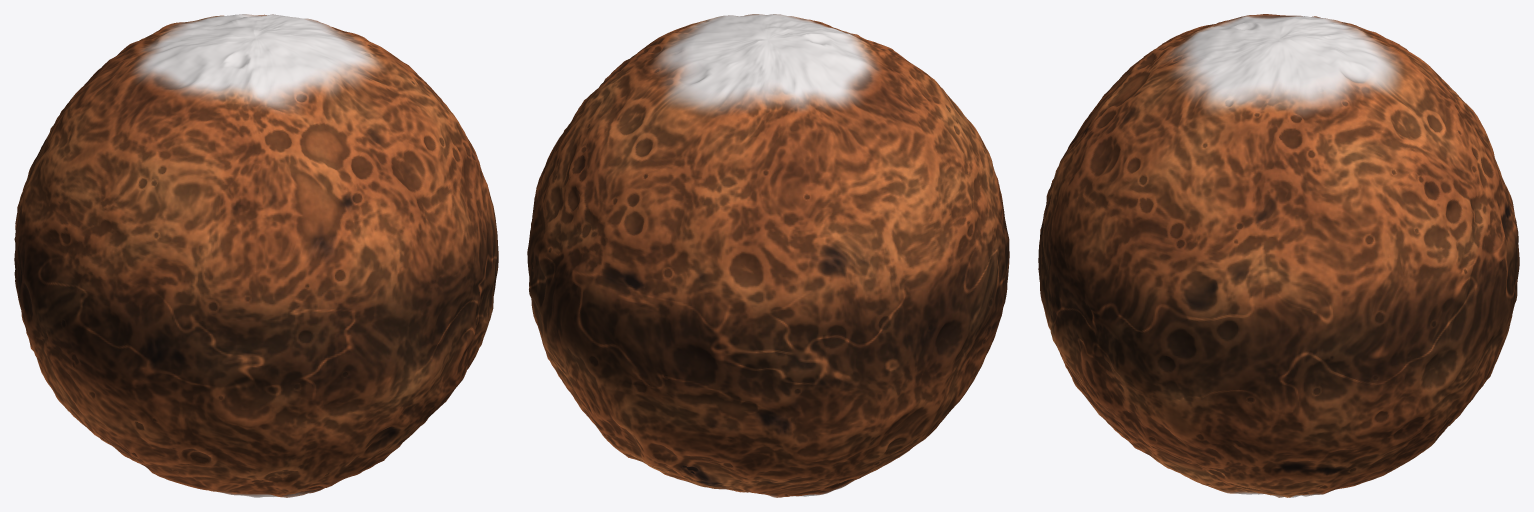
Rendered from planet_3.glb.
3 views of the same model, side by side, from view 1: azimuth 30°, elevation 25°; view 2: azimuth 150°, elevation 25°; view 3: azimuth 270°, elevation 25° (orthographic).
Parts seen in each view (by area): view 1: Planet; view 2: Planet; view 3: Planet.
Boxes of the visible parts, <box> form: Planet: <box>14,14,498,497</box>; Planet: <box>527,14,1009,497</box>; Planet: <box>1038,14,1519,497</box>.
Size of the model in its own units: 4.06 by 4.05 by 4.04.
1 material, 1 textured.
